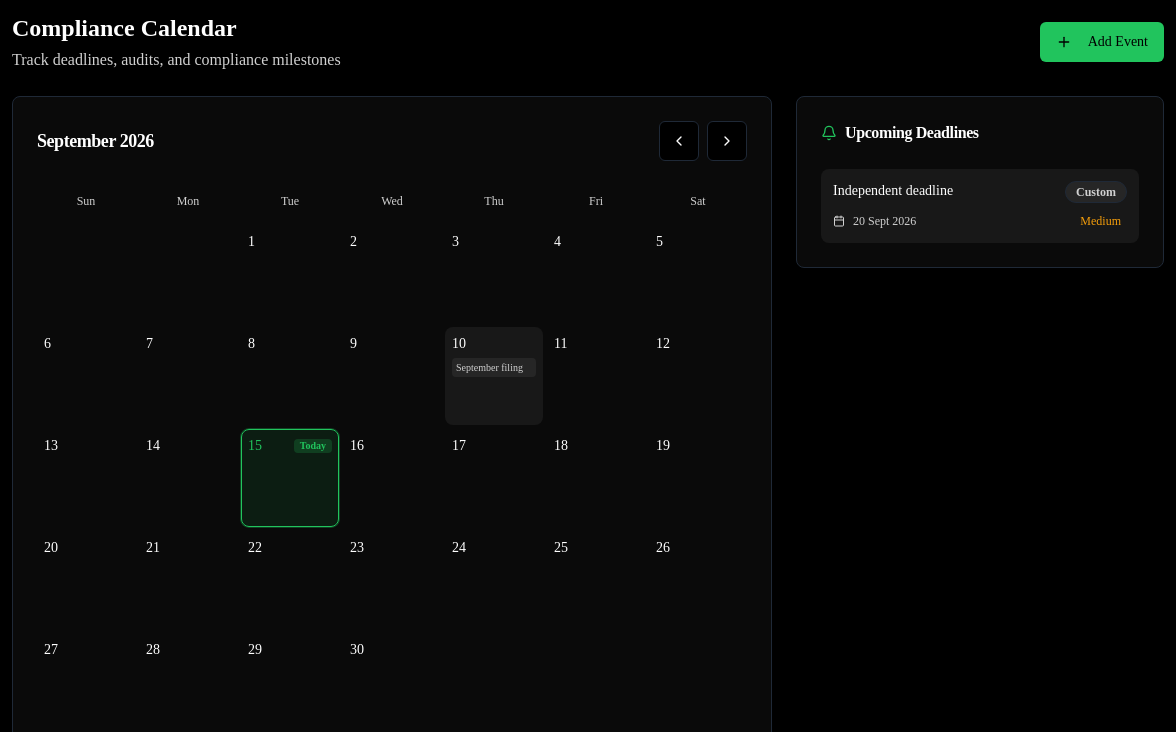
Test case: Calendar truthful month transitions › shows a localized target-month error while month navigation remains available
Click the button named "Next month".
click(727, 141)  # box [707,121,747,161]
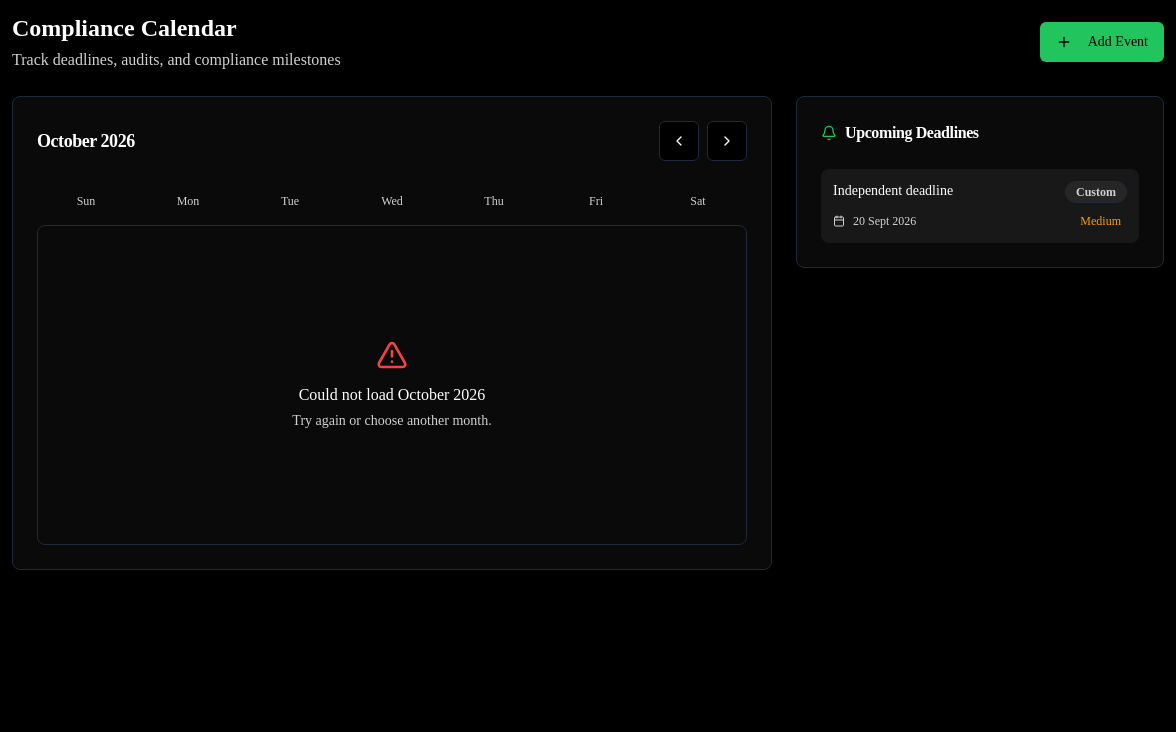
Check: the text "Could not load October 2026" is shown, box [292,383,492,407]
Check: the text "September filing" is gone
Click the button named "Previous month".
click(679, 141)  # box [659,121,699,161]
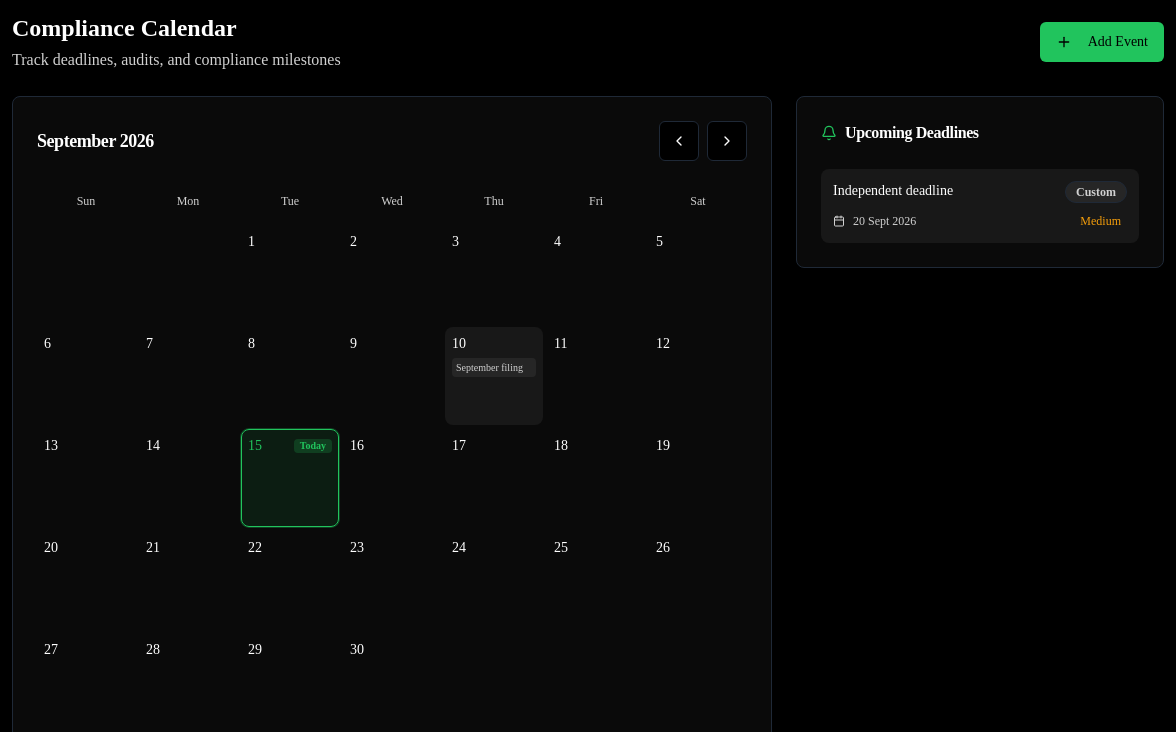
Check: the text "September filing" is shown, box [452,358,536,377]
